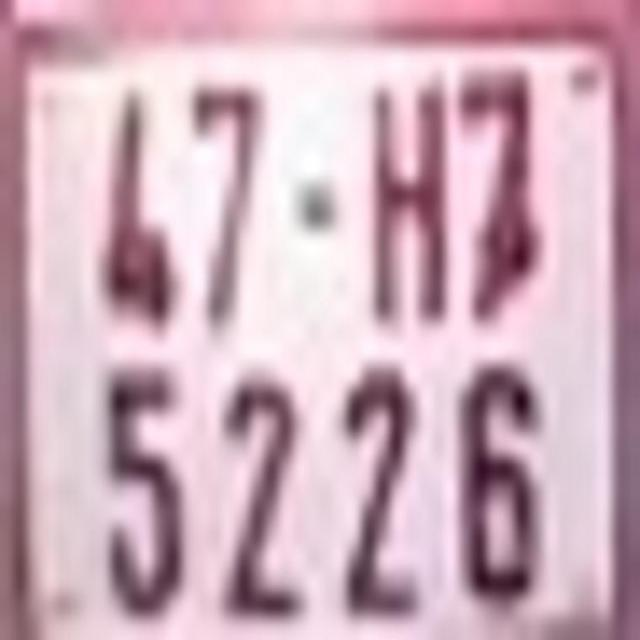2: (340, 354, 414, 605), (222, 380, 300, 607)
4: (105, 85, 175, 322)
5: (106, 369, 185, 617)
6: (461, 370, 539, 599)
7: (463, 61, 538, 330), (188, 85, 264, 320)
H: (371, 82, 452, 316)
